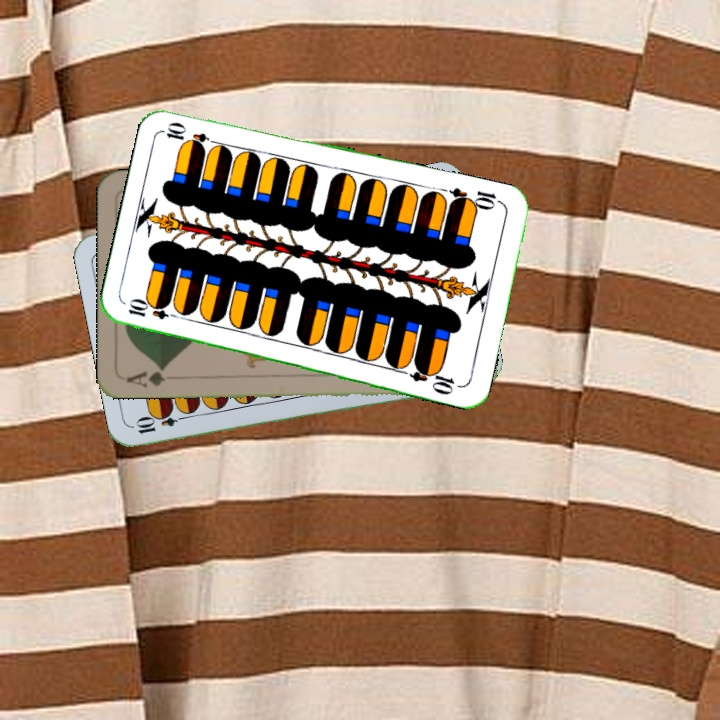E10: (445, 183, 505, 213), (132, 409, 191, 437), (124, 297, 183, 322)
GA: (123, 363, 170, 390)
